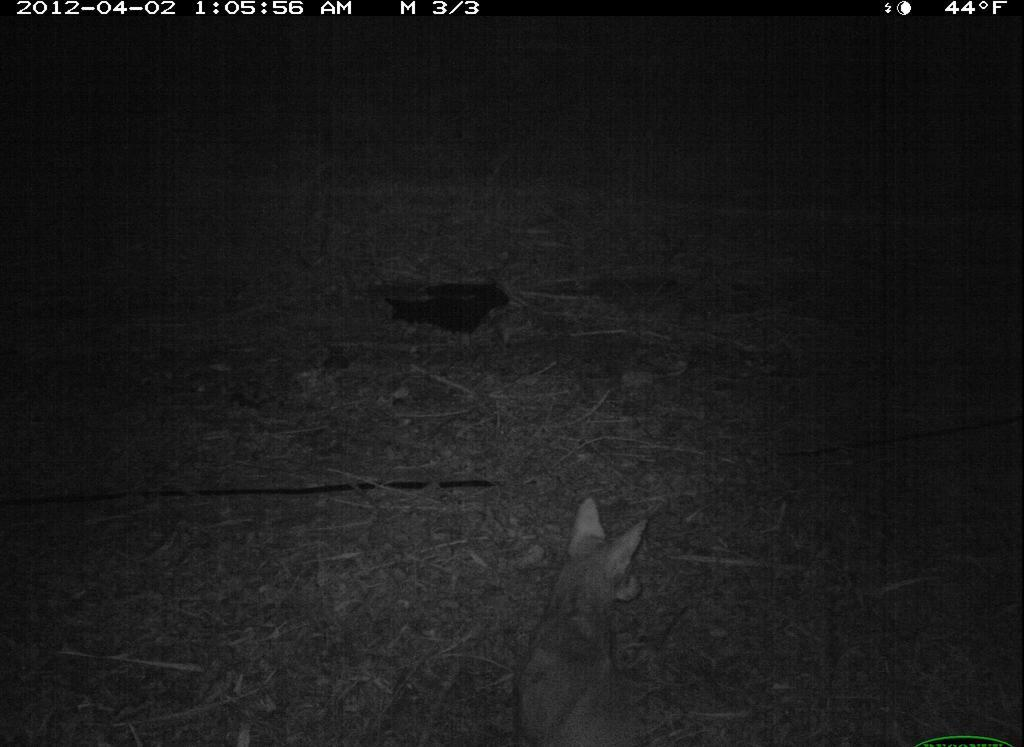coyote: (502, 484, 660, 747)
